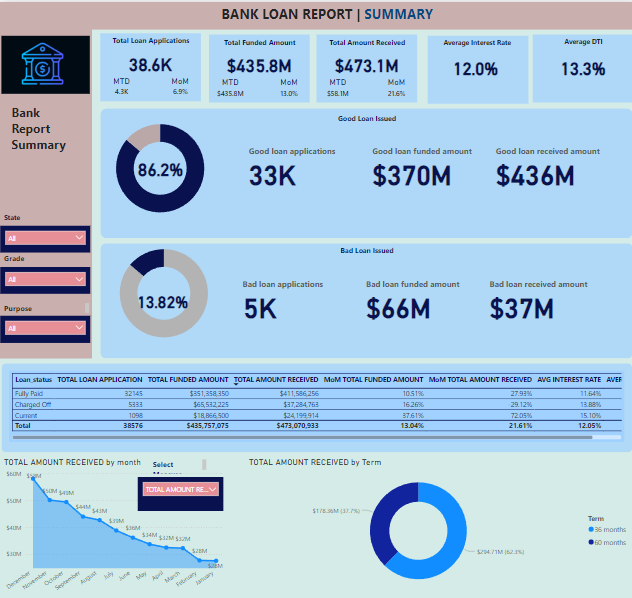

What the dashboard file says about the page in this screenshot:
{"tool":"powerbi","page":{"name":"Page 1","canvas":[1280,1200],"ordinal":0},"visuals":[{"type":"shape","box":[0,0,1280,55.4],"z":0,"group":"g6"},{"type":"shape","box":[202.8,63.7,201.3,136.2],"z":0,"group":"g1"},{"type":"shape","box":[1067.9,64.2,201.3,136.2],"z":0,"group":"g5"},{"type":"shape","box":[419.7,64.7,201.3,136.2],"z":0,"group":"g2"},{"type":"shape","box":[635.6,65.8,201.3,136.2],"z":0,"group":"g3"},{"type":"shape","box":[855.6,66.5,201.3,136.2],"z":0,"group":"g4"},{"type":"shape","box":[203.1,212.5,1065.5,260.1],"z":0},{"type":"shape","box":[0,49.5,186,663],"z":1000},{"type":"card","fields":{"Values":["bank_loan_data.total_loan_application"]},"box":[193.1,80.2,220.8,85.6],"z":1000,"group":"g1"},{"type":"card","fields":{"Values":["bank_loan_data.TOTAL FUNDED AMOUNT"]},"box":[410,81.2,220.8,85.6],"z":1000,"group":"g2"},{"type":"card","fields":{"Values":["bank_loan_data.TOTAL AMOUNT RECEIVED"]},"box":[625.9,82.3,220.8,85.6],"z":1000,"group":"g3"},{"type":"card","fields":{"Values":["bank_loan_data.Average DTI"]},"box":[1058.6,86.7,221.4,86],"z":1000,"group":"g5"},{"type":"card","fields":{"Values":["bank_loan_data.AVG INTEREST RATE"]},"box":[841.7,87.7,221.4,86],"z":1000,"group":"g4"},{"type":"textbox","box":[212.6,64.7,182.9,30.2],"z":2000,"group":"g1"},{"type":"textbox","box":[1077.6,65.2,182.9,30.2],"z":2000,"group":"g5"},{"type":"textbox","box":[429.5,65.7,182.9,30.2],"z":2000,"group":"g2"},{"type":"textbox","box":[645.4,66.8,182.9,30.2],"z":2000,"group":"g3"},{"type":"textbox","box":[865.3,67.5,182.9,30.2],"z":2000,"group":"g4"},{"type":"textbox","box":[382.2,217.9,707.1,30.2],"z":2000},{"type":"card","title":"MTD","fields":{"Values":["bank_loan_data.MTD LOAN APPLICATION"]},"box":[212.6,149.3,65.2,50.6],"z":3000,"group":"g1"},{"type":"card","title":"MTD","fields":{"Values":["bank_loan_data.TOTAL FUNDED AMOUNT"]},"box":[429.5,150.3,65.2,50.6],"z":3000,"group":"g2"},{"type":"card","title":"MTD","fields":{"Values":["bank_loan_data.MTD TOTAL AMOUNT RECEIVED"]},"box":[645.4,151.4,65.2,50.6],"z":3000,"group":"g3"},{"type":"card","fields":{"Values":["bank_loan_data.Good Loan %"]},"box":[212.2,289,221.4,86],"z":3000},{"type":"textbox","box":[440.6,0,446.4,56.4],"z":4000,"group":"g6"},{"type":"group","id":"g1","title":"Group 1","box":[193.1,63.7,221.3,136.8],"z":4000},{"type":"card","title":"MoM","fields":{"Values":["bank_loan_data.MoM LOAN APPLICATION"]},"box":[330.2,149.3,65.2,50.6],"z":4000,"group":"g1"},{"type":"card","title":"MoM","fields":{"Values":["bank_loan_data.MoM TOTAL FUNDED AMOUNT"]},"box":[547.1,150.3,65.2,50.6],"z":4000,"group":"g2"},{"type":"card","title":"MoM","fields":{"Values":["bank_loan_data.MoM TOTAL AMOUNT RECEIVED"]},"box":[763,151.4,65.2,50.6],"z":4000,"group":"g3"},{"type":"group","id":"g2","title":"Group 1","box":[410,64.7,220.3,136.8],"z":5000},{"type":"group","id":"g3","title":"Group 1","box":[625.9,65.8,220.3,136.8],"z":6000},{"type":"group","id":"g4","title":"Group 1","box":[841.7,66.5,221.4,136.2],"z":7000},{"type":"group","id":"g5","title":"Group 1","box":[1058.6,64.2,221.4,136.5],"z":8000},{"type":"donutChart","fields":{"Category":["bank_loan_data.Good VS Bad Loan"],"Y":["bank_loan_data.Total Loan Application"]},"box":[198.4,216.8,250,230.5],"z":9000},{"type":"cardVisual","fields":{"Data":["bank_loan_data.Good loan applications","bank_loan_data.Good loan funded amount","bank_loan_data.Good loan received amount"]},"box":[482.9,247.7,745.5,169.7],"z":10000},{"type":"shape","box":[203.3,481.5,1066,230.5],"z":11000},{"type":"cardVisual","fields":{"Data":["bank_loan_data.bad loan applications","bank_loan_data.Bad loan funded amount","bank_loan_data.Bad loan received amount"]},"box":[468.8,511.6,745,170.2],"z":12000},{"type":"textbox","box":[382.2,481.5,707.1,30.2],"z":13000},{"type":"donutChart","fields":{"Category":["bank_loan_data.Good VS Bad Loan"],"Y":["bank_loan_data.Total Loan Application"]},"box":[203.9,468.5,249.8,230.5],"z":14000},{"type":"card","fields":{"Values":["bank_loan_data.Bad loan %"]},"box":[263.3,561.7,129.6,69.4],"z":15000},{"type":"shape","box":[6,721.5,1261.5,178.5],"z":16000},{"type":"group","id":"g6","title":"Group 2","box":[0,0,1280,56.4],"z":17000},{"type":"tableEx","fields":{"Values":["bank_loan_data.loan_status","bank_loan_data.Total Loan Application","bank_loan_data.TOTAL FUNDED AMOUNT","bank_loan_data.TOTAL AMOUNT RECEIVED","bank_loan_data.MoM TOTAL FUNDED AMOUNT","bank_loan_data.MoM TOTAL AMOUNT RECEIVED","bank_loan_data.AVG INTEREST RATE","bank_loan_data.Average DTI"]},"box":[19.5,738,1230,142.5],"z":18000},{"type":"slicer","fields":{"Values":["bank_loan_data.address_state"]},"box":[3,447.8,180.3,53.2],"z":19000},{"type":"textbox","box":[5.9,418.2,180.3,29.6],"z":20000},{"type":"slicer","fields":{"Values":["bank_loan_data.grade"]},"box":[3,530.5,180.3,53.2],"z":21000},{"type":"slicer","fields":{"Values":["bank_loan_data.purpose"]},"box":[3,626.6,180.3,54.7],"z":22000},{"type":"textbox","box":[5.9,496.6,180.3,34],"z":23000},{"type":"textbox","box":[5.9,597,180.3,29.6],"z":24000},{"type":"areaChart","fields":{"Y":["bank_loan_data.TOTAL AMOUNT RECEIVED"],"Category":["date table.month"]},"box":[5.9,910.3,447.8,289.7],"z":25000},{"type":"slicer","fields":{"Values":["Select Measure.Select Measure"]},"box":[276.4,948.8,171.4,68],"z":26000},{"type":"textbox","box":[303,910.3,116.7,38.4],"z":27000},{"type":"donutChart","fields":{"Y":["bank_loan_data.TOTAL AMOUNT RECEIVED"],"Category":["bank_loan_data.term"]},"box":[495.1,910.3,772.9,276.4],"z":28000},{"type":"image","box":[0,48.8,186.2,150.7],"z":29000},{"type":"textbox","box":[19.2,199.5,130,218.7],"z":30000}]}

Visuals, with their boxes in screenshot pixels (x1, y1, x2, y2), scaled from the page's 1280x1200 canvas onto the 632x598 screenshot:
shape: [0,0,631,28]
shape: [100,32,200,100]
shape: [527,32,627,100]
shape: [207,32,307,100]
shape: [314,33,413,101]
shape: [422,33,522,101]
shape: [100,106,626,236]
shape: [0,25,92,355]
card - bank_loan_data.total_loan_application: [95,40,204,83]
card - bank_loan_data.TOTAL FUNDED AMOUNT: [202,40,311,83]
card - bank_loan_data.TOTAL AMOUNT RECEIVED: [309,41,418,84]
card - bank_loan_data.Average DTI: [523,43,631,86]
card - bank_loan_data.AVG INTEREST RATE: [416,44,525,87]
textbox: [105,32,195,47]
textbox: [532,32,622,48]
textbox: [212,33,302,48]
textbox: [319,33,409,48]
textbox: [427,34,518,49]
textbox: [189,109,538,124]
"MTD" card: [105,74,137,100]
"MTD" card: [212,75,244,100]
"MTD" card: [319,75,351,101]
card - bank_loan_data.Good Loan %: [105,144,214,187]
textbox: [218,0,438,28]
"Group 1" group: [95,32,205,100]
"MoM" card: [163,74,195,100]
"MoM" card: [270,75,302,100]
"MoM" card: [377,75,409,101]
"Group 1" group: [202,32,311,100]
"Group 1" group: [309,33,418,101]
"Group 1" group: [416,33,525,101]
"Group 1" group: [523,32,631,100]
donutChart - bank_loan_data.Good VS Bad Loan x bank_loan_data.Total Loan Application: [98,108,221,223]
cardVisual - bank_loan_data.Good loan applications x bank_loan_data.Good loan funded amount: [238,123,607,208]
shape: [100,240,627,355]
cardVisual - bank_loan_data.bad loan applications x bank_loan_data.Bad loan funded amount: [231,255,599,340]
textbox: [189,240,538,255]
donutChart - bank_loan_data.Good VS Bad Loan x bank_loan_data.Total Loan Application: [101,233,224,348]
card - bank_loan_data.Bad loan %: [130,280,194,314]
shape: [3,360,626,448]
"Group 2" group: [0,0,631,28]
tableEx - bank_loan_data.loan_status x bank_loan_data.Total Loan Application: [10,368,617,439]
slicer - bank_loan_data.address_state: [1,223,91,250]
textbox: [3,208,92,223]
slicer - bank_loan_data.grade: [1,264,91,291]
slicer - bank_loan_data.purpose: [1,312,91,340]
textbox: [3,247,92,264]
textbox: [3,298,92,312]
areaChart - bank_loan_data.TOTAL AMOUNT RECEIVED x date table.month: [3,454,224,597]
slicer - Select Measure.Select Measure: [136,473,221,507]
textbox: [150,454,207,473]
donutChart - bank_loan_data.TOTAL AMOUNT RECEIVED x bank_loan_data.term: [244,454,626,591]
image: [0,24,92,99]
textbox: [9,99,74,208]
